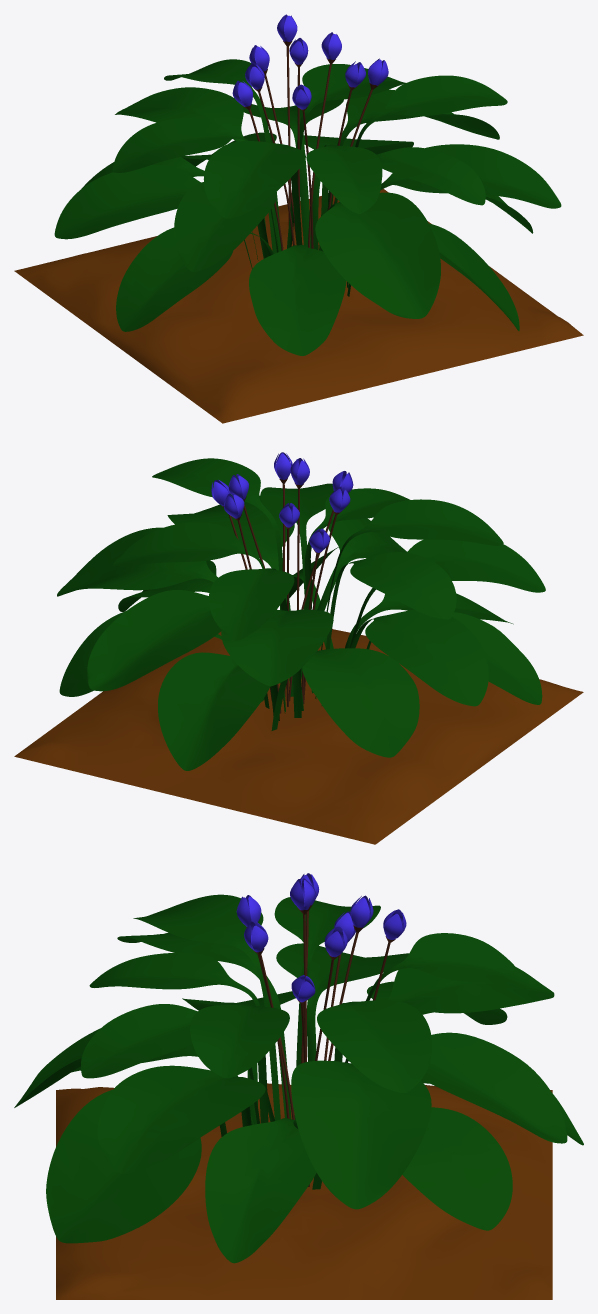
File: violets-p4-leaf.glb
3 renders of one model, top to bottom at view 1: azimuth 30°, elevation 25°; view 2: azimuth 150°, elevation 25°; view 3: azimuth 270°, elevation 25°, orthographic. The views are drawn at different scales.
Visible parts, largest first — view 1: 4_nft_out_of_bloom; view 2: 4_nft_out_of_bloom; view 3: 4_nft_out_of_bloom.
Boxes of the visible parts, x1,y1,x2,y2 form: 4_nft_out_of_bloom: (14, 14, 583, 423); 4_nft_out_of_bloom: (14, 452, 583, 844); 4_nft_out_of_bloom: (14, 873, 583, 1299).
Size of the model in its own units: 0.8335 by 0.4909 by 0.8036.
